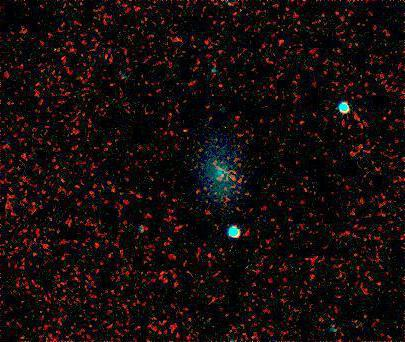star: (167, 115, 197, 145)
